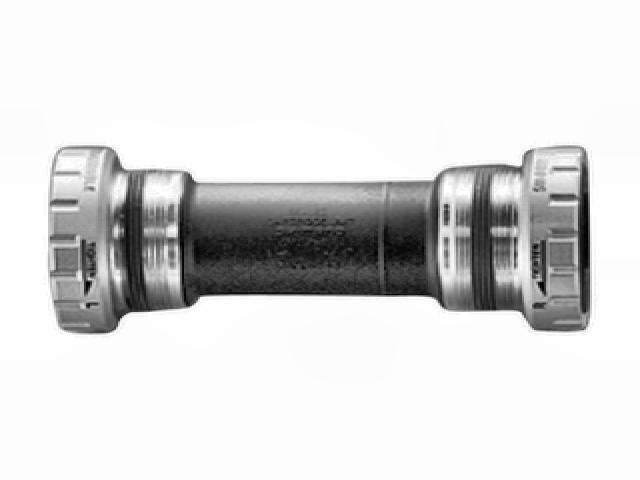bottom_bracket: (45, 144, 597, 334)
